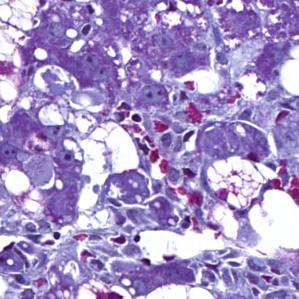ballooning: (3, 3, 45, 132), (201, 151, 282, 213)
